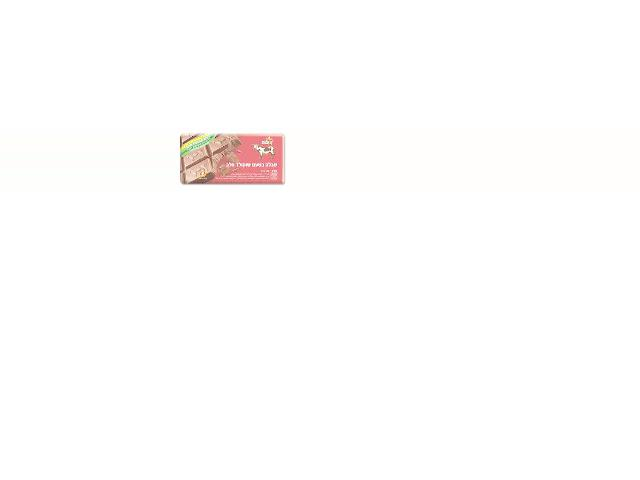chocolate: (179, 132, 287, 187)
